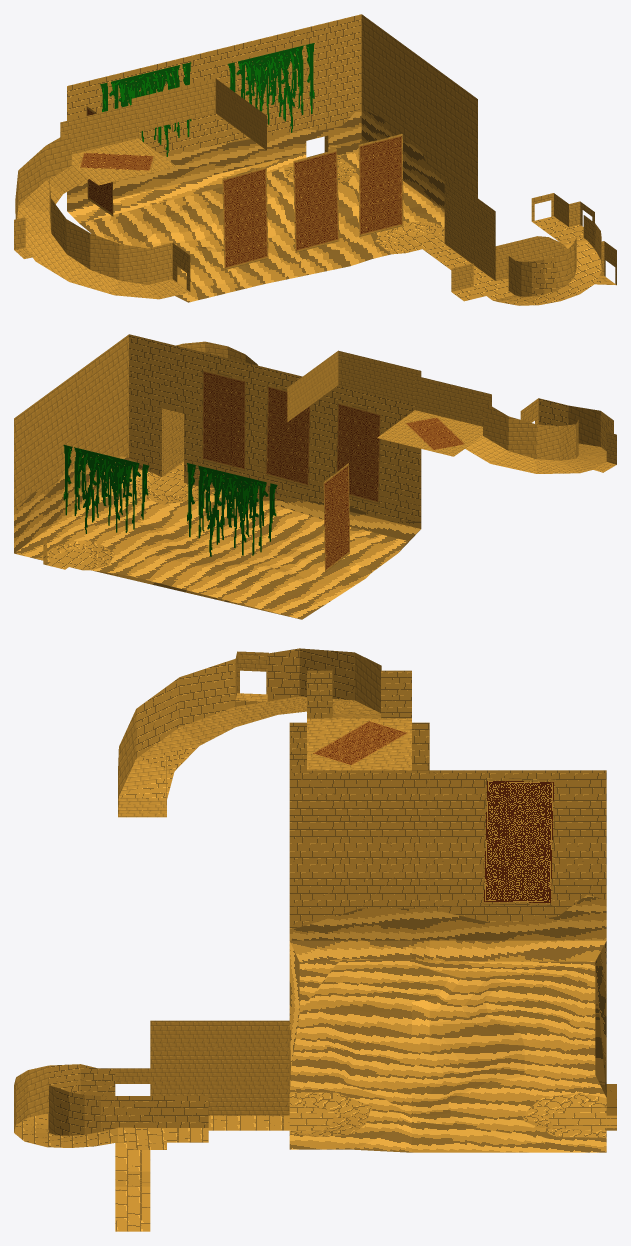
The model's file is entryway_platformer.gltf.
3 views of the same model, one above another, from view 1: azimuth 30°, elevation 25°; view 2: azimuth 150°, elevation 25°; view 3: azimuth 270°, elevation 25° (orthographic). The views are drawn at different scales.
Visible parts, largest first — view 1: entryway_platformer-col; view 2: entryway_platformer-col; view 3: entryway_platformer-col.
Part boxes in pixels (left/top/right/bottom): entryway_platformer-col: left=14, top=14, right=616, bottom=305; entryway_platformer-col: left=14, top=334, right=616, bottom=619; entryway_platformer-col: left=14, top=648, right=616, bottom=1231.
Bounding box in the file's own units: 66.78 × 22.39 × 46.6.
Materials: 12 (12 with a texture image).
